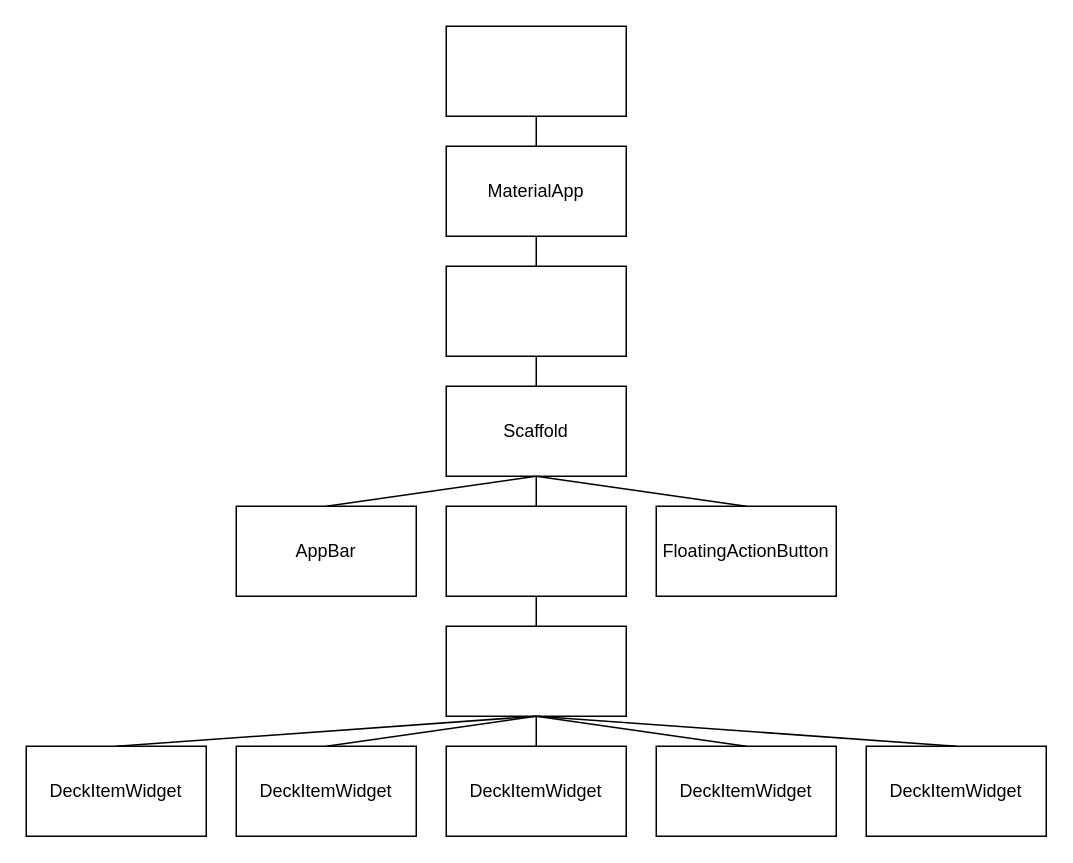
This 1073x863 diagram has some shape labels left out. The shapes that lost their labels are listed below. From the top down, each one's box as (x1, y1, x2, y2) in pixels, then its label:
(445, 25, 626, 116): AIDexApp
(445, 265, 626, 356): DeckOverview
(445, 505, 626, 596): SingleChildScrollView
(445, 625, 626, 716): Column
